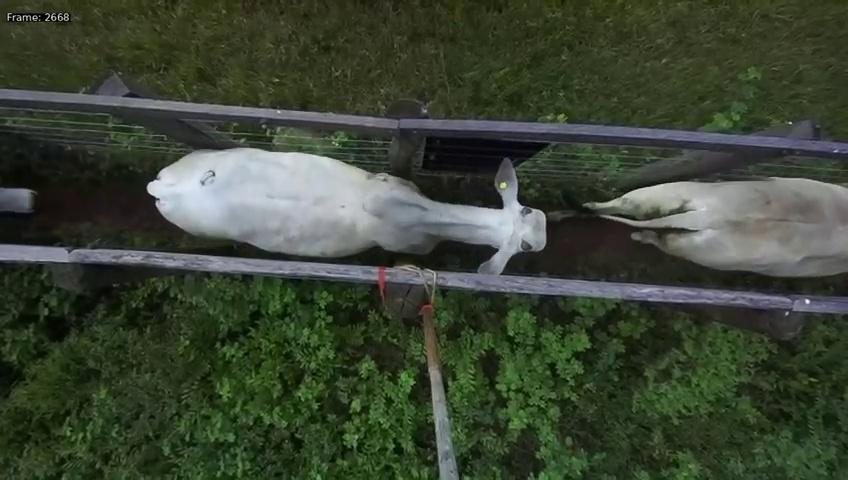cattle: (138, 129, 550, 273)
